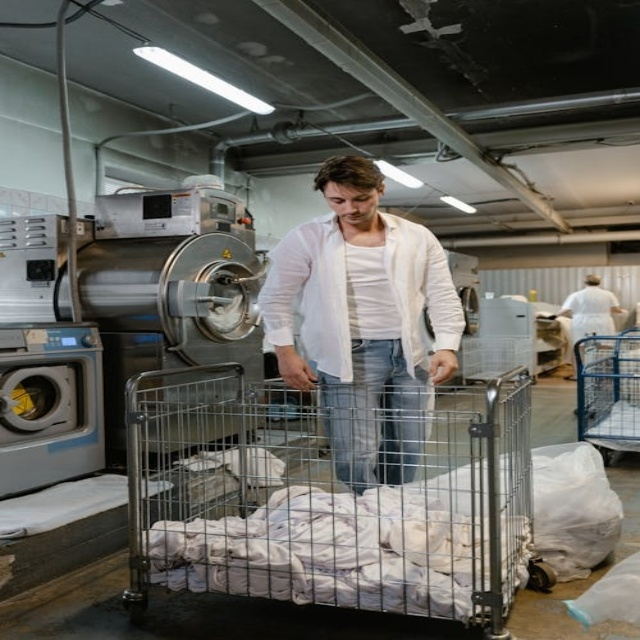Sin_gafas: (324, 189, 376, 204)
Sin_guantes: (274, 358, 323, 391), (426, 349, 465, 387)
Sin_mascara: (334, 210, 370, 224)
